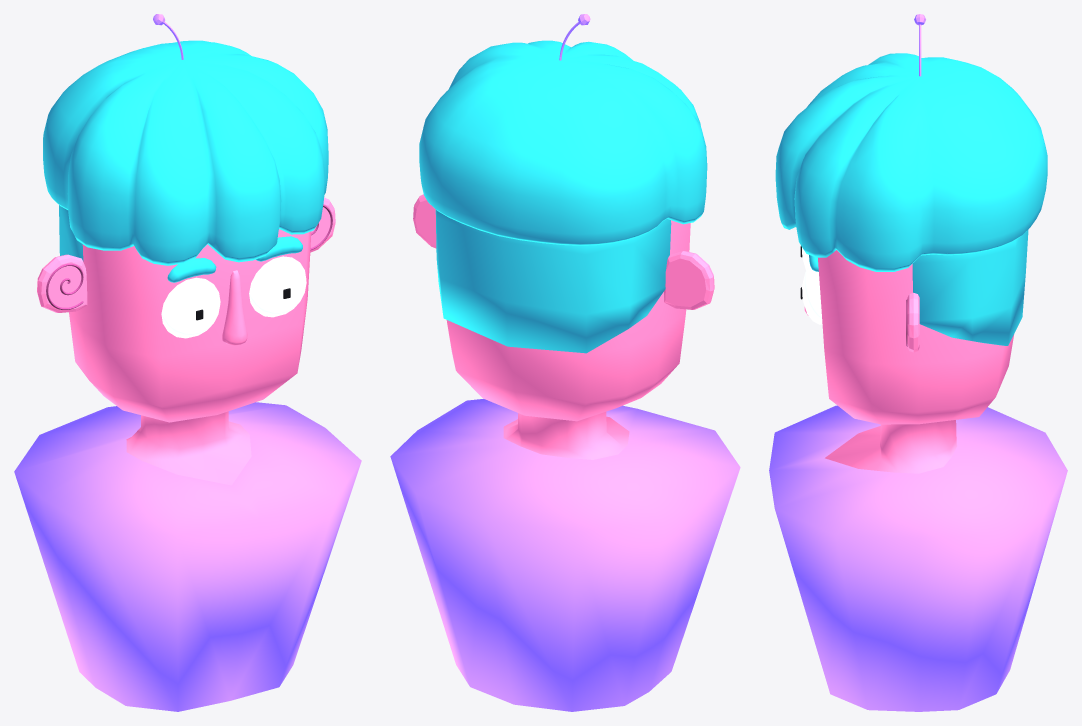
Rendered from notabot_model1.fbx.
3 views of the same model, side by side, from view 1: azimuth 30°, elevation 25°; view 2: azimuth 150°, elevation 25°; view 3: azimuth 270°, elevation 25° (orthographic). The views are drawn at different scales.
Visible parts, largest first — view 1: clothes, hair_bowl, head, R_eye, L_eye, R_ear, nose, hair_back, R_brow, L_ear, L_brow; view 2: clothes, hair_bowl, hair_back, head, R_ear, L_ear; view 3: clothes, hair_bowl, head, hair_back, L_eye, L_ear.
Part boxes in pixels (x1,y1,x2,y2): clothes: (14, 402, 361, 711); hair_bowl: (43, 40, 328, 265); head: (69, 229, 311, 485); R_eye: (161, 277, 220, 338); L_eye: (249, 256, 306, 317); R_ear: (37, 254, 87, 312); nose: (222, 270, 247, 345); hair_back: (59, 205, 83, 261); R_brow: (167, 258, 216, 282); L_ear: (310, 197, 335, 252); L_brow: (256, 236, 302, 261); clothes: (390, 399, 740, 711); hair_bowl: (419, 40, 707, 245); hair_back: (435, 209, 671, 353); head: (446, 220, 690, 459); R_ear: (664, 251, 714, 309); L_ear: (413, 194, 436, 248); clothes: (769, 405, 1067, 711); hair_bowl: (775, 53, 1047, 271); head: (818, 250, 1014, 473); hair_back: (912, 229, 1028, 345); L_eye: (802, 265, 822, 324); L_ear: (907, 292, 919, 352).
Bounding box in the file's own units: 822 × 1739 × 731.
